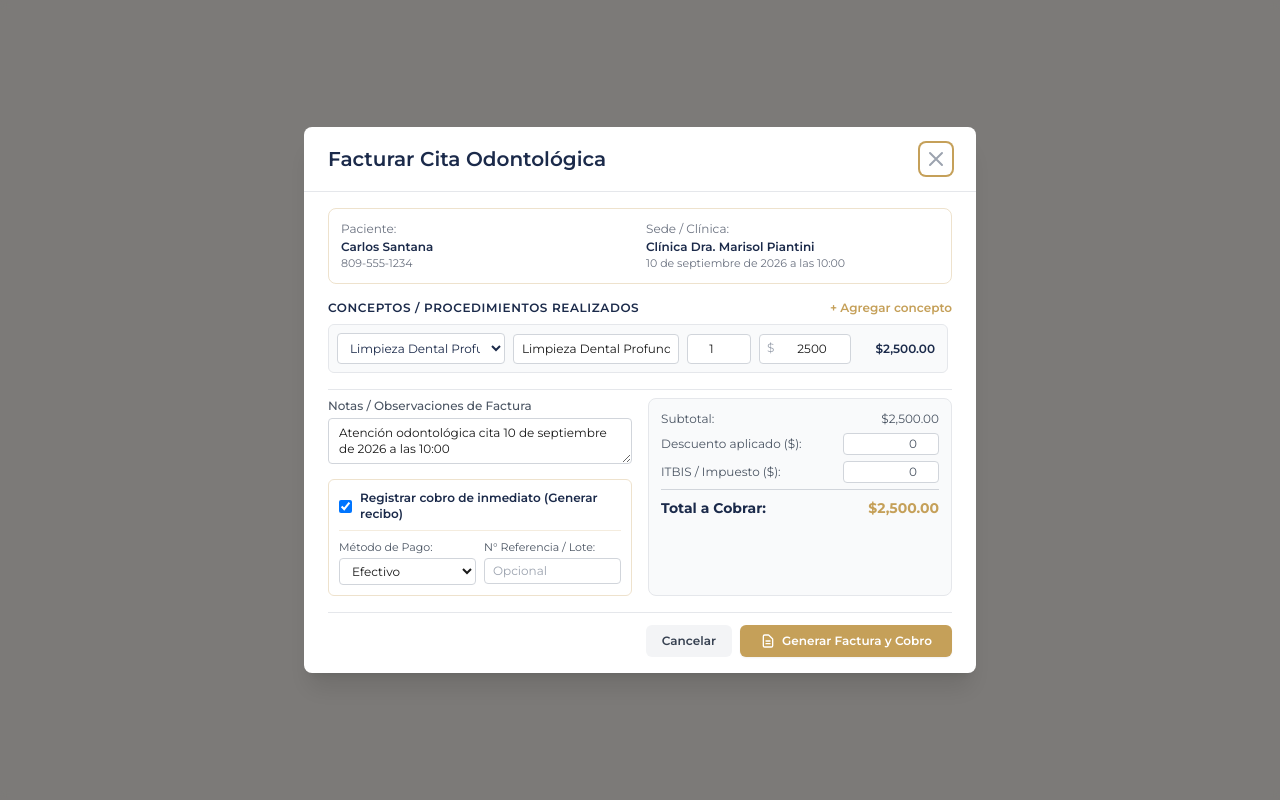
Test case: QuickInvoiceModal - Single Invoice per Appointment › renders creation form when appointment is unbilled and passes appointment_id on submit
Expected: the text "Carlos Santana" is shown, [341,239,433,254]
Expected: the field showing "Limpieza Dental Profunda" is shown, [513,334,679,364]
Note: Submit the invoice
Click the button "Generar Factura y Cobro": (846, 641) [740,625,952,657]
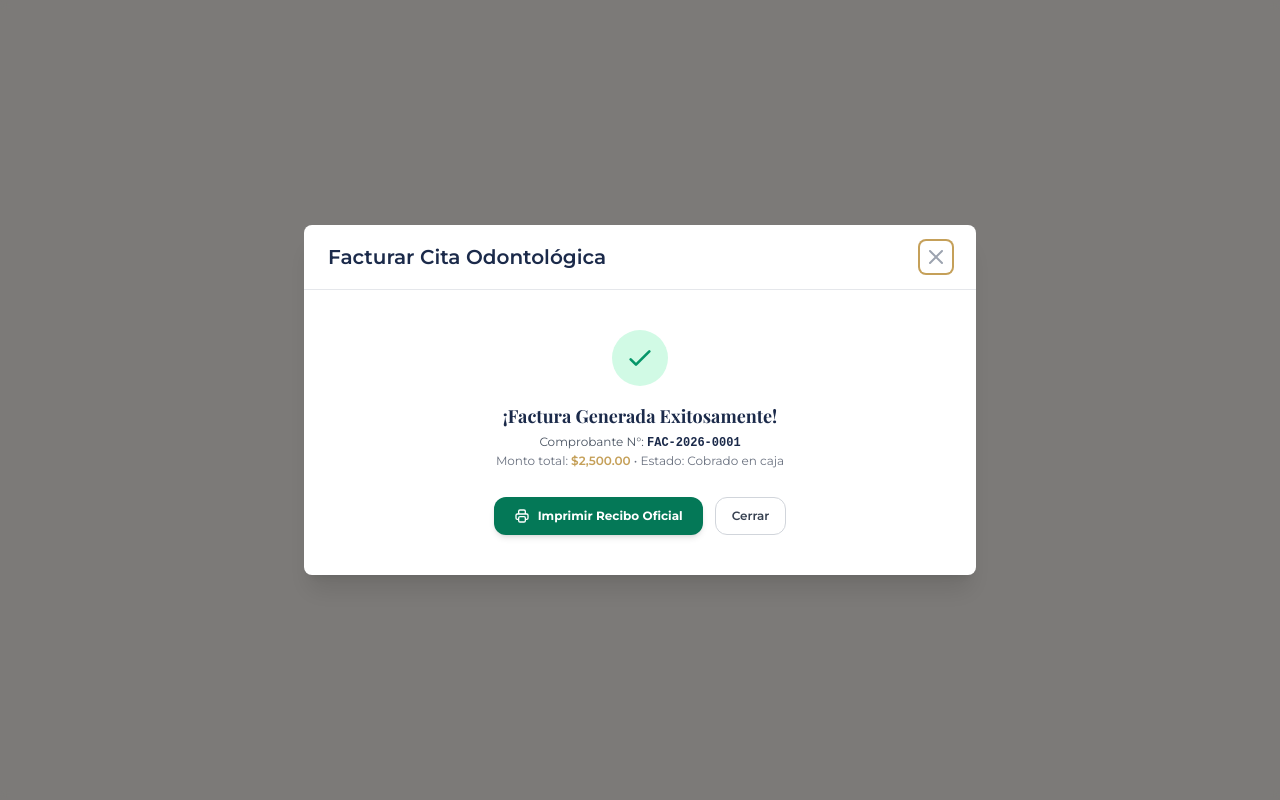
Expected: the heading "¡Factura Generada Exitosamente!" is shown, [503,404,777,428]
Expected: the text "FAC-2026-0001" is shown, [647,436,741,450]
